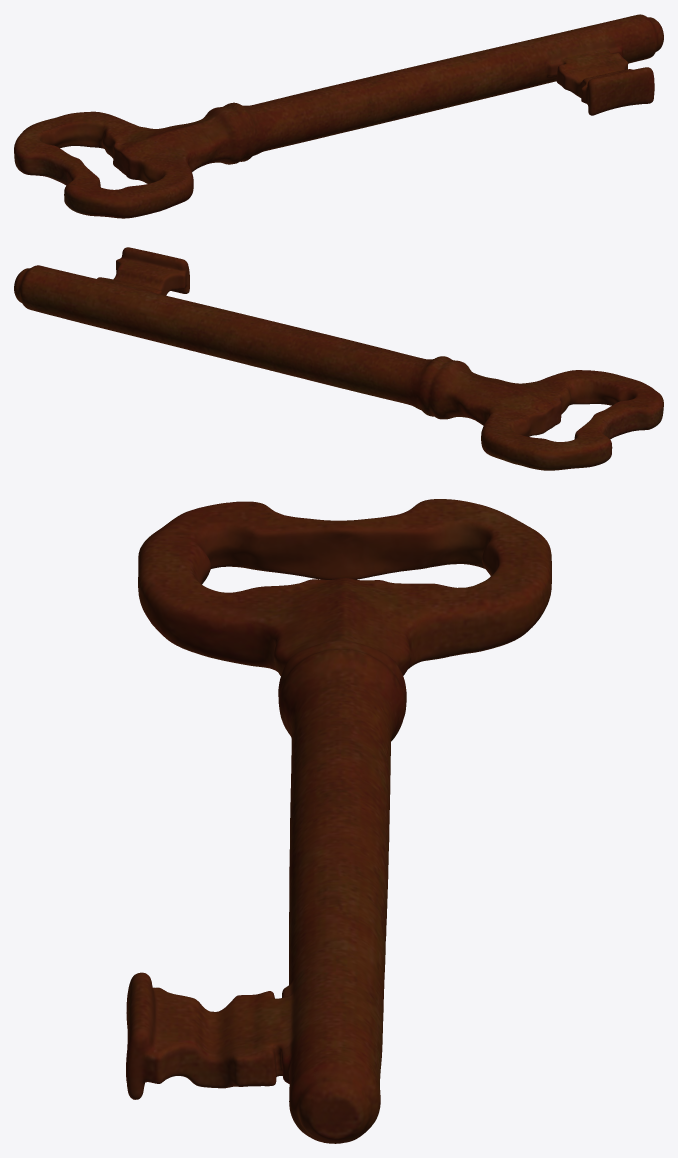
The model's file is kljuc.glb.
3 renders of one model, top to bottom at view 1: azimuth 30°, elevation 25°; view 2: azimuth 150°, elevation 25°; view 3: azimuth 270°, elevation 25°, orthographic. The views are drawn at different scales.
Bounding box in the file's own units: 1.9 × 0.1595 × 0.5709.
Materials: 1 (1 with a texture image).
